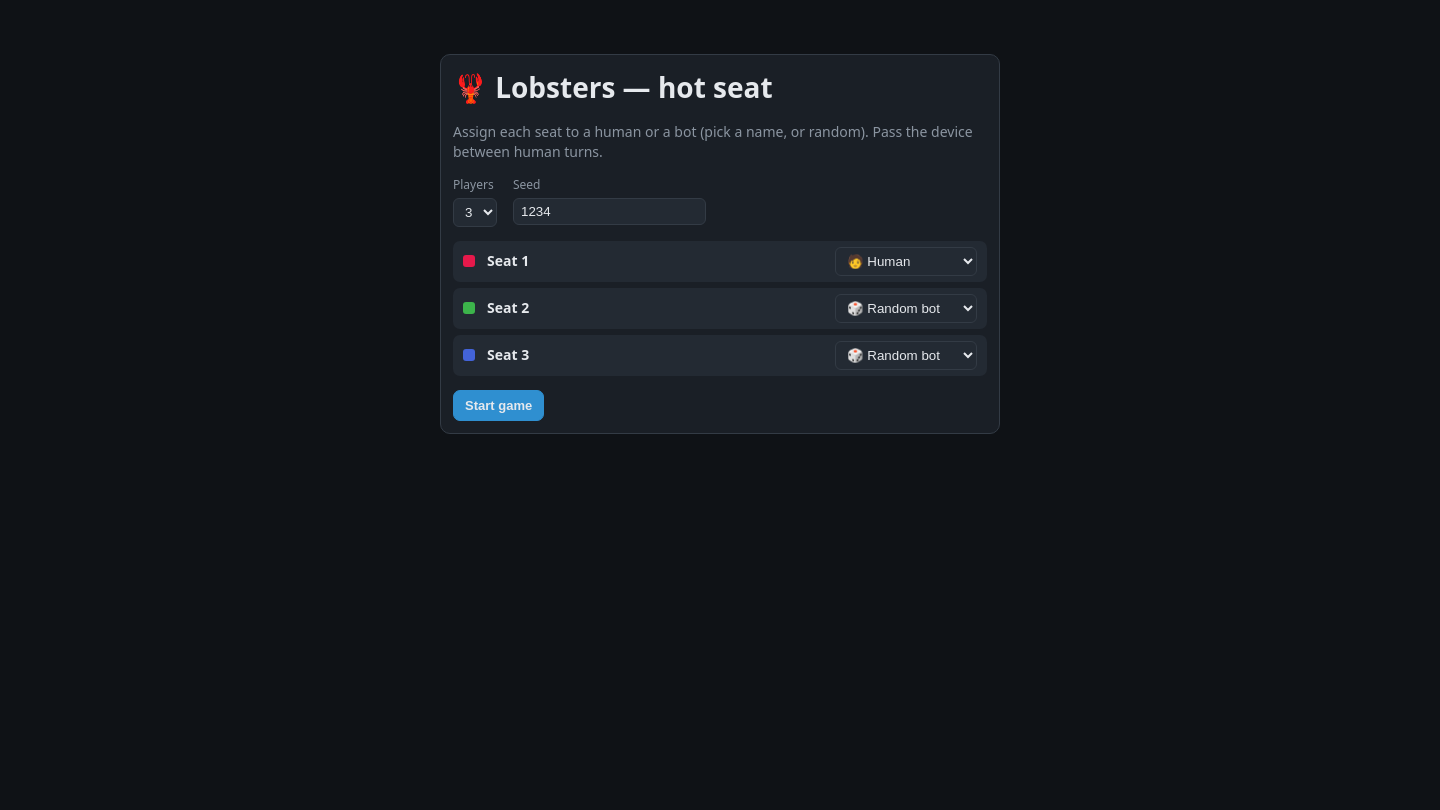
Scenario: web app › renders an all-bot game screen when a seat is assigned a bot
This screenshot has width=1440, height=810.
# set seat 1 to a named bot → the game will auto-play (all seats bots)
Select "🤖 gambler" in the 2nd dropdown. click: (906, 261)
box: left=835, top=247, right=977, bottom=276
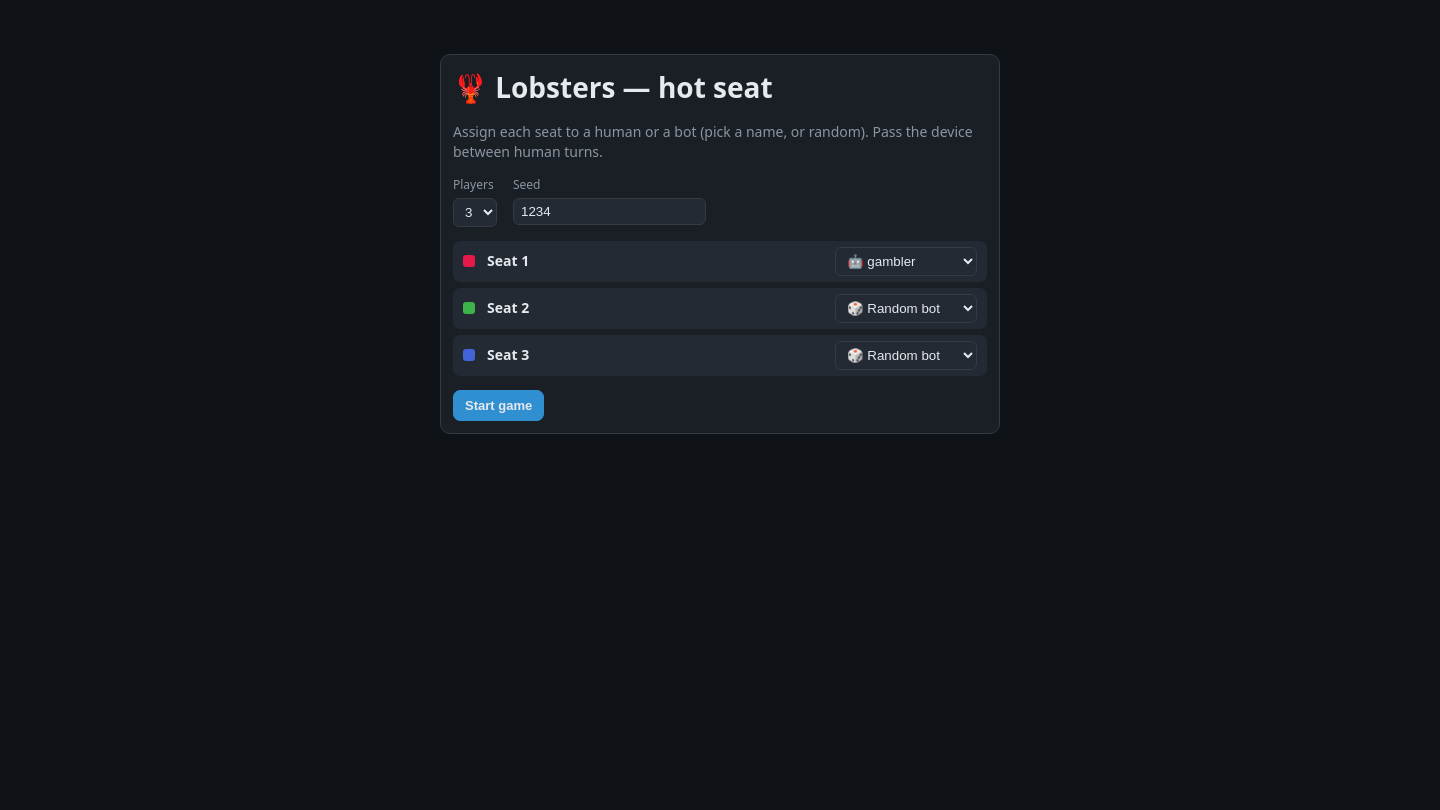
Click the button "Start game". click: (499, 405)
box: left=453, top=390, right=544, bottom=421
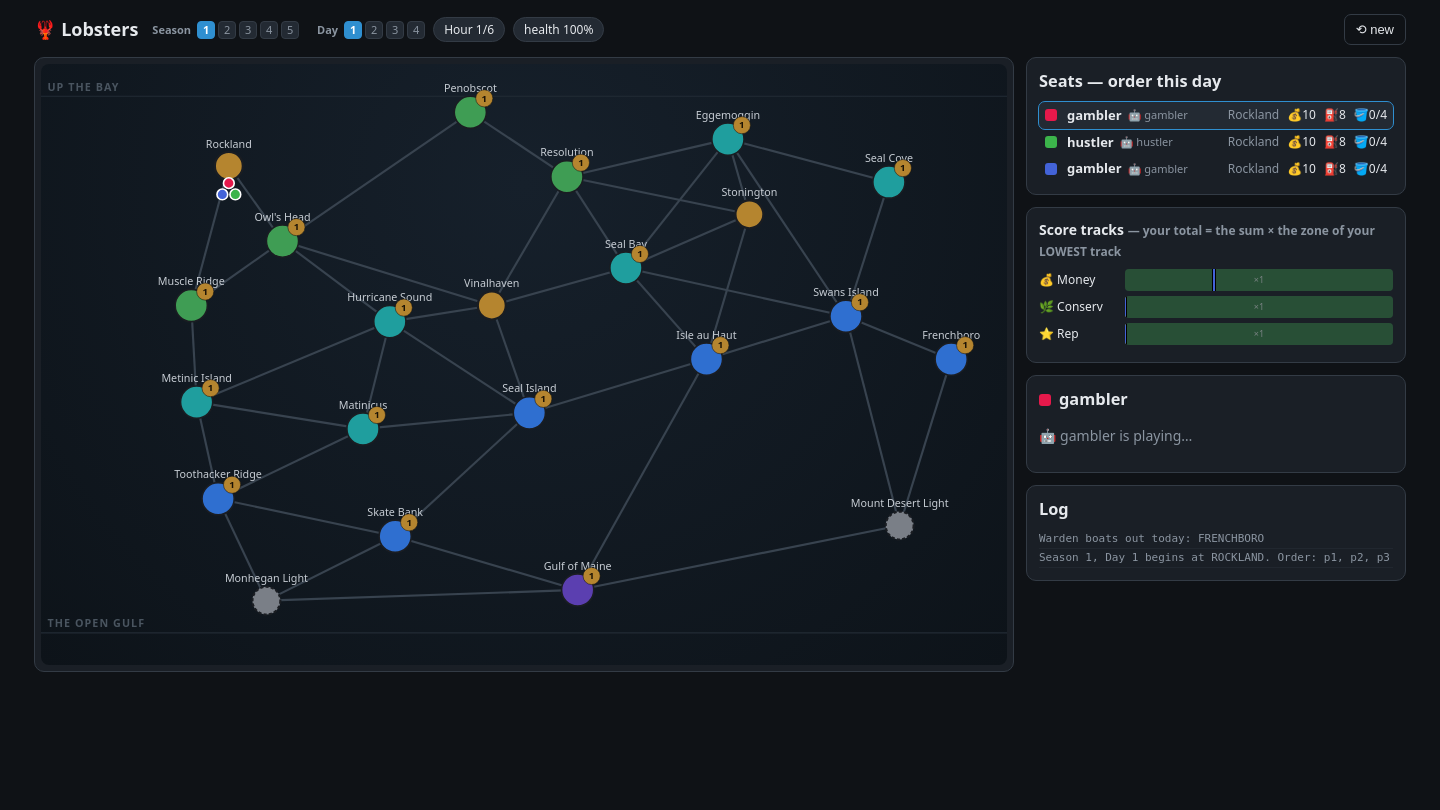
Expected: the element with class "game" is shown
Expected: the element with class "bot-turn" is shown, left=1026, top=375, right=1406, bottom=473
